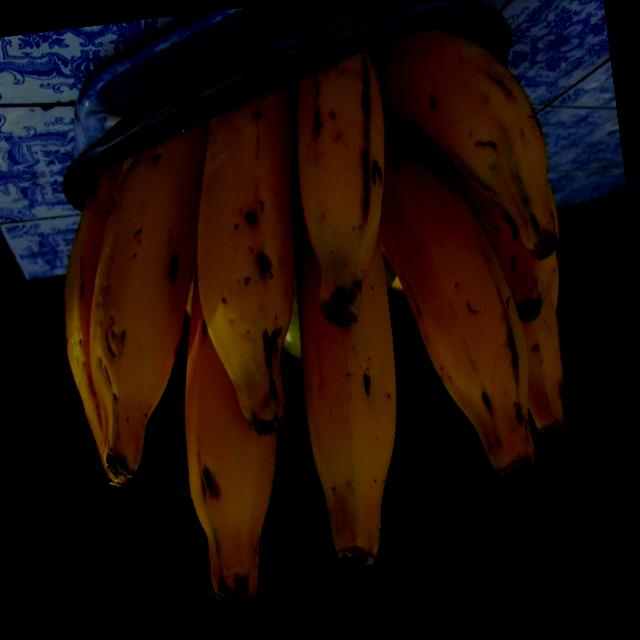Banana: (27, 0, 604, 630)
